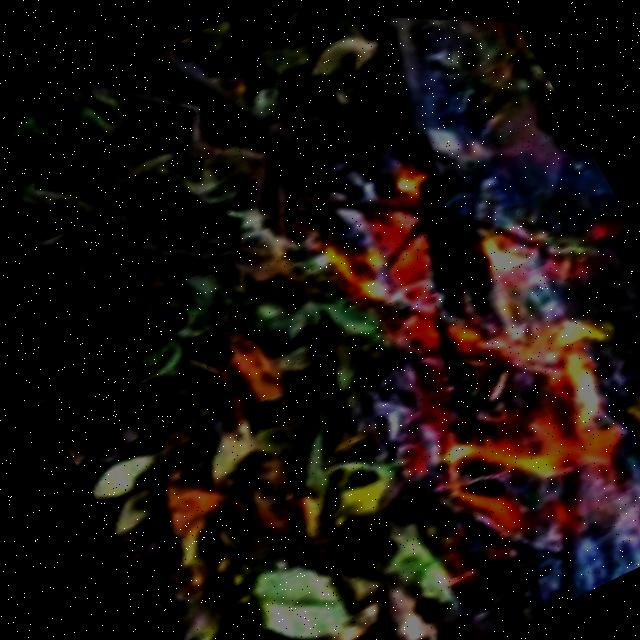Fire: (276, 106, 640, 586)
